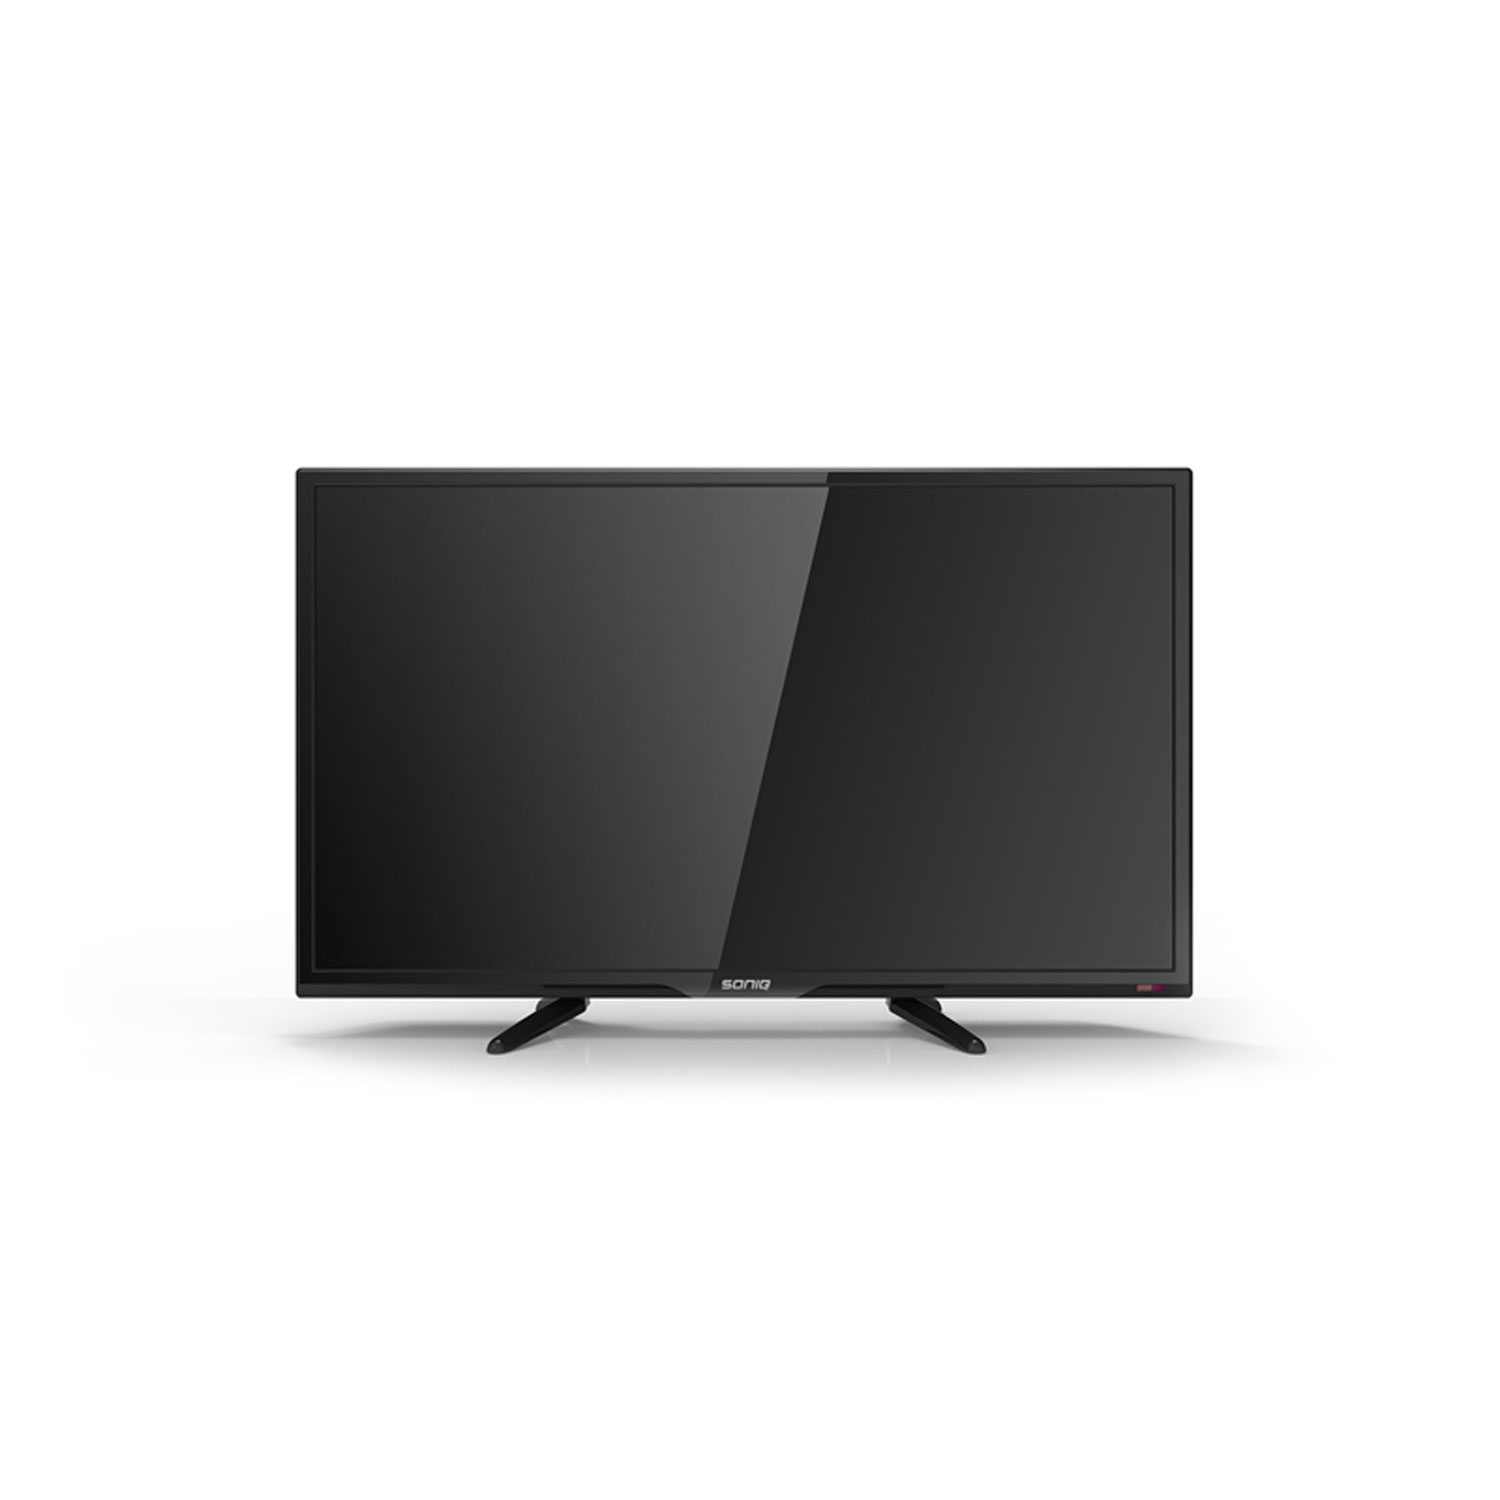tv: (268, 453, 1214, 1060)
